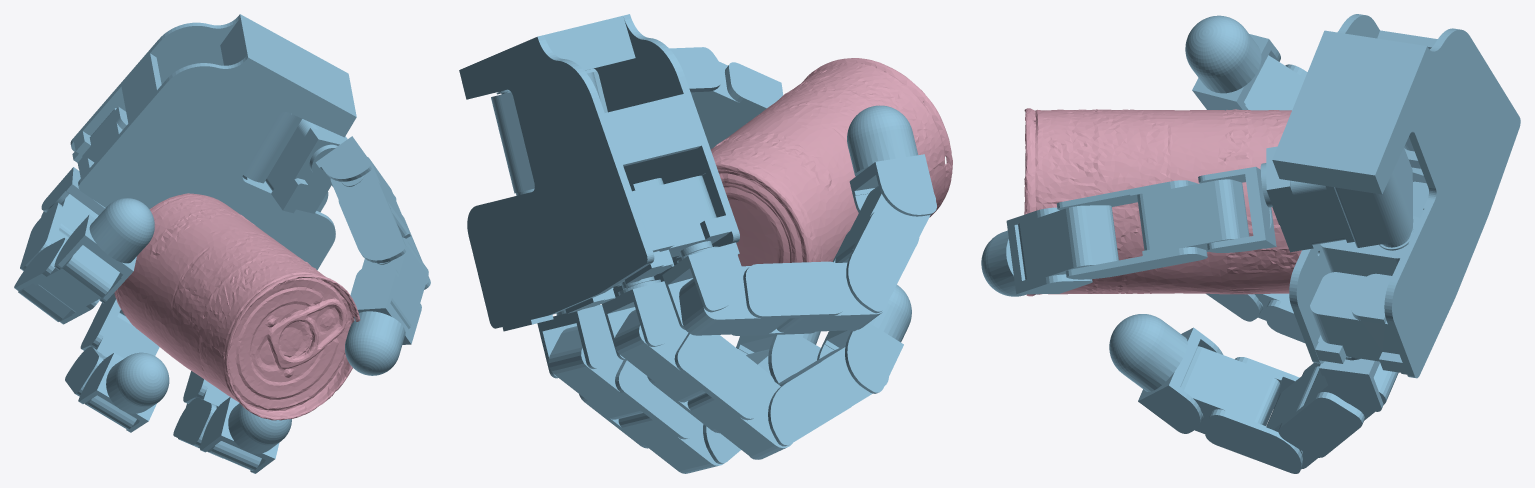
3 renders of one model, left to right at view 1: azimuth 30°, elevation 25°; view 2: azimuth 150°, elevation 25°; view 3: azimuth 270°, elevation 25°, orthographic. The views are drawn at different scales.
Parts seen in each view (by area): view 1: world, tomato_soup_can.stl; view 2: world, tomato_soup_can.stl; view 3: world, tomato_soup_can.stl.
Part boxes in pixels (bbox=[...]): world: bbox=[14, 14, 430, 473]; tomato_soup_can.stl: bbox=[114, 193, 360, 420]; world: bbox=[459, 14, 936, 473]; tomato_soup_can.stl: bbox=[710, 58, 952, 266]; world: bbox=[981, 14, 1520, 473]; tomato_soup_can.stl: bbox=[1024, 108, 1301, 296].
Bounding box in the file's own units: 0.1726 × 0.1852 × 0.1936.
